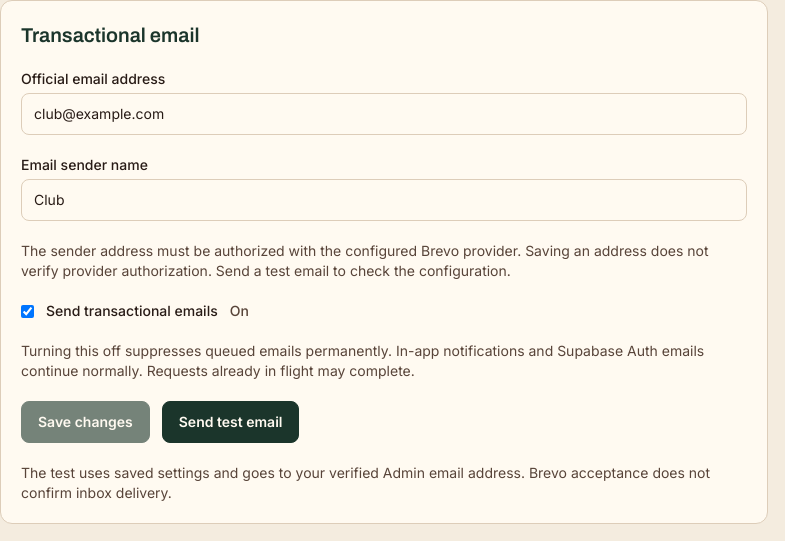
loads saved fields, disables unchanged saves, and establishes the saved baseline
This screenshot has width=785, height=541.
Check: the field labelled "Official email address" holds "club@example.com", box [21, 93, 747, 135]
Check: the button "Save changes" is disabled, box [21, 401, 150, 443]
Replace the text in the field labelled "Email sender name" with "New Club" at (384, 200), box [21, 179, 747, 221]
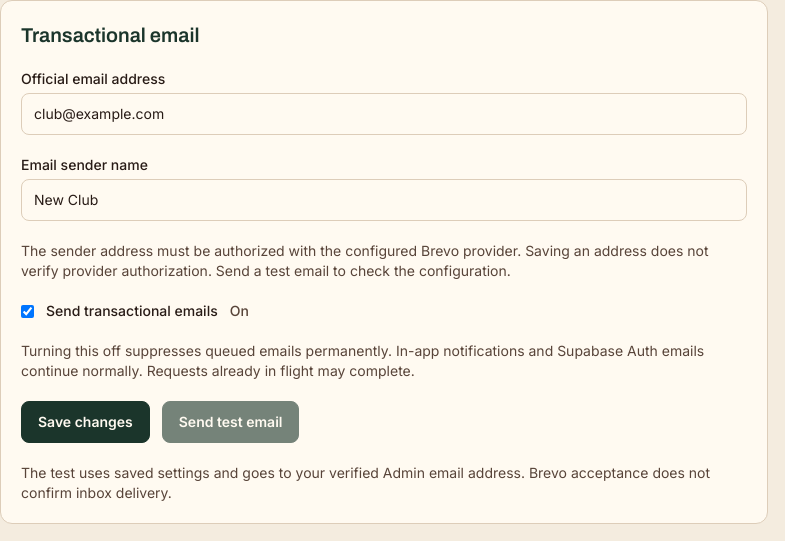
Check: the button "Save changes" is enabled
Check: the button "Send test email" is disabled, box [162, 401, 300, 443]
Click the button "Save changes".
click(85, 422)  # box [21, 401, 150, 443]
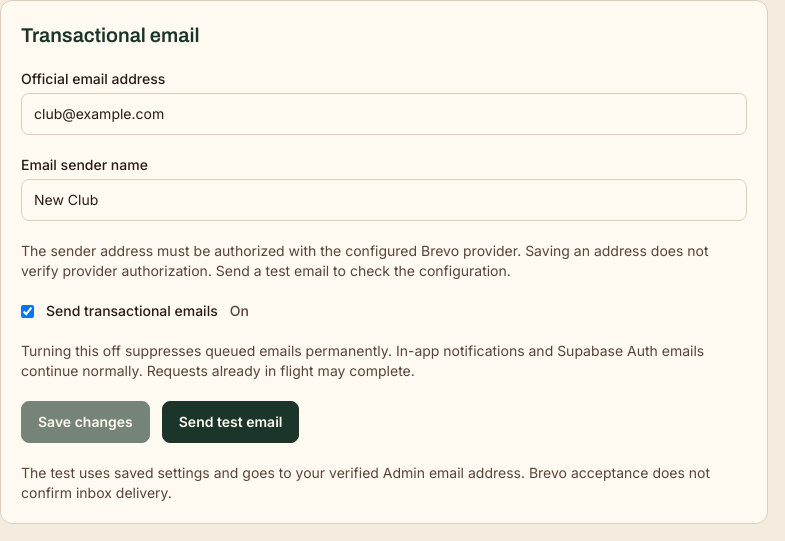
Check: the button "Save changes" is disabled, box [21, 401, 150, 443]
